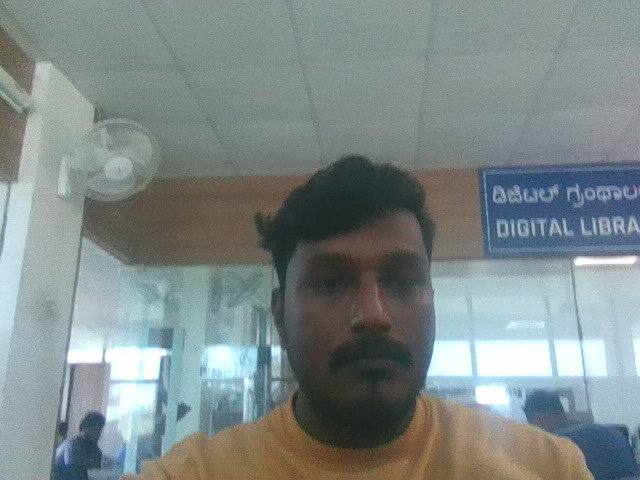real: (256, 138, 461, 428)
